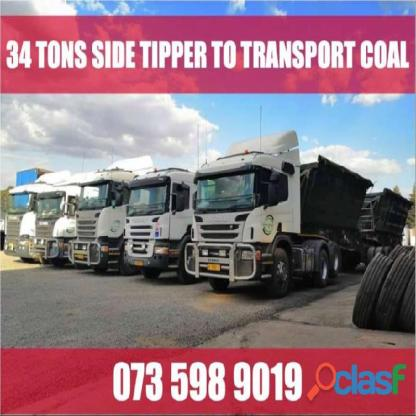dump_truck: (191, 127, 411, 296), (126, 150, 196, 286), (71, 158, 126, 271), (34, 169, 80, 281), (0, 159, 38, 273)
